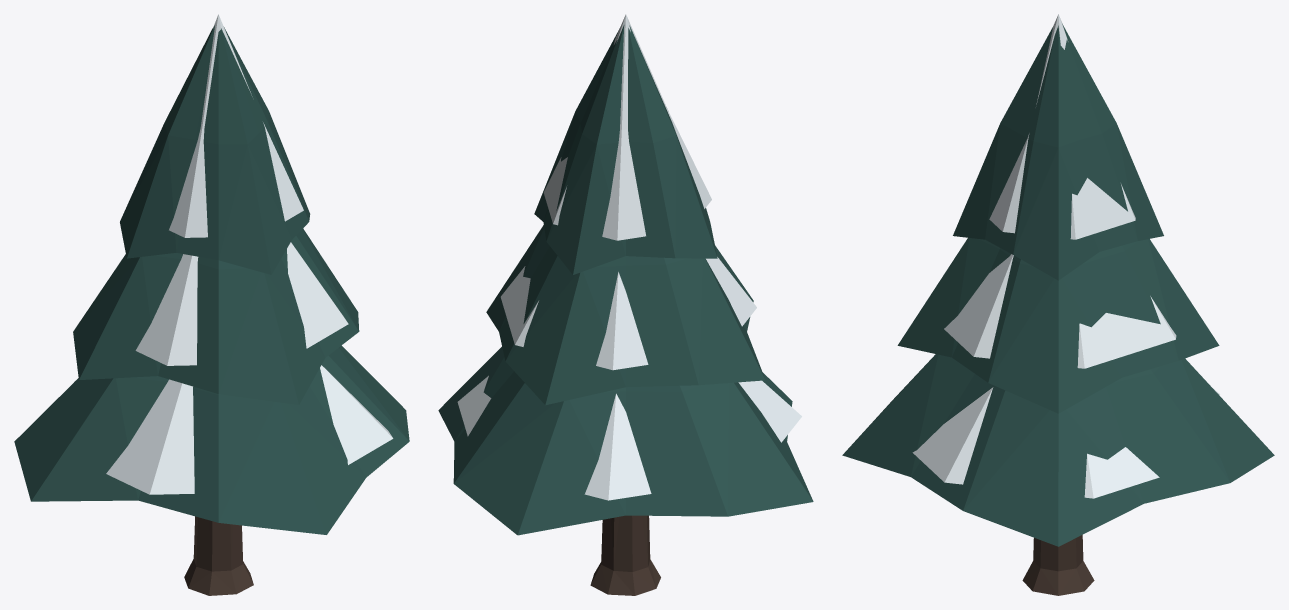
The model's file is FM_SnowPine.fbx.
3 views of the same model, side by side, from view 1: azimuth 30°, elevation 25°; view 2: azimuth 150°, elevation 25°; view 3: azimuth 270°, elevation 25° (orthographic).
Visible parts, largest first — view 1: FM_SnowPine_Canopy, FM_SnowPine_Snow, FM_SnowPine_Trunk; view 2: FM_SnowPine_Canopy, FM_SnowPine_Snow, FM_SnowPine_Trunk; view 3: FM_SnowPine_Canopy, FM_SnowPine_Snow, FM_SnowPine_Trunk.
Part boxes in pixels (x1,y1,x2,y2): FM_SnowPine_Canopy: (14,25,409,534); FM_SnowPine_Snow: (74,14,393,494); FM_SnowPine_Trunk: (184,516,253,595); FM_SnowPine_Canopy: (438,25,813,535); FM_SnowPine_Snow: (457,14,801,500); FM_SnowPine_Trunk: (590,515,660,595); FM_SnowPine_Canopy: (842,24,1274,546); FM_SnowPine_Snow: (912,14,1219,498); FM_SnowPine_Trunk: (1022,535,1094,595).
Size of the model in its own units: 18 by 26 by 18.
